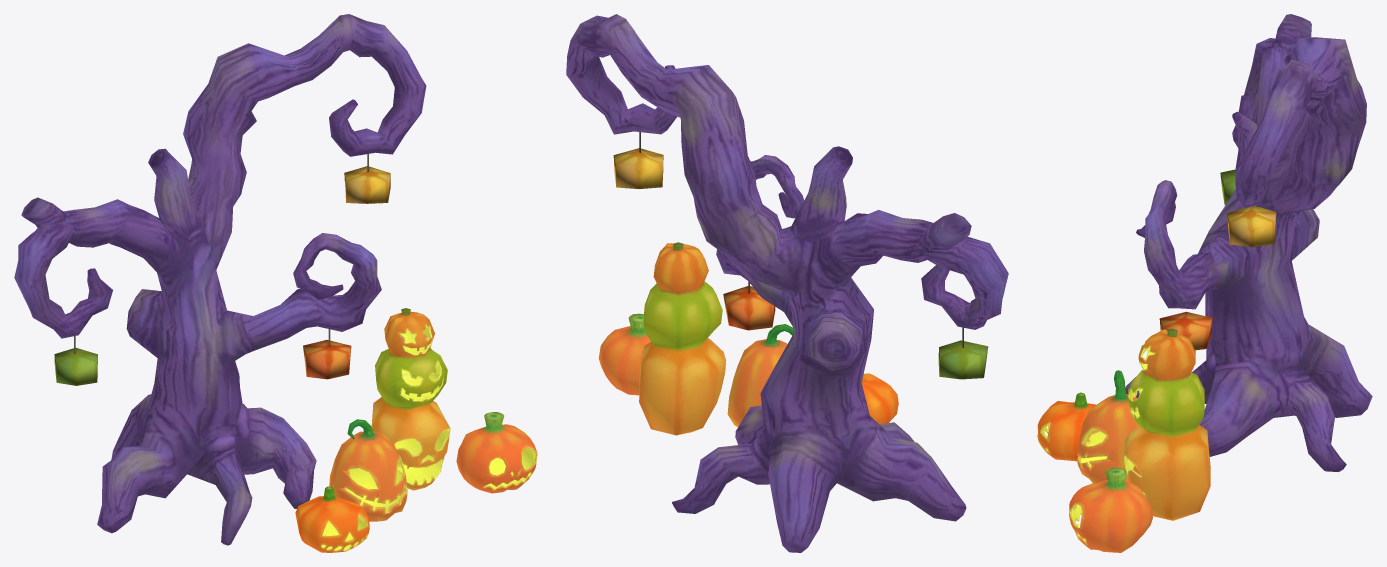
File: jack-o-lantern-tree.glb
3 renders of one model, left to right at view 1: azimuth 30°, elevation 25°; view 2: azimuth 150°, elevation 25°; view 3: azimuth 270°, elevation 25°, orthographic. The views are drawn at different scales.
Parts seen in each view (by area): view 1: Jack_tree_Jack_tree_0, jack_tower_jack_tower_0, Jack_o_lerntern_long_Jack_o_lerntern_long_0, Jack_tree_pumpkin_Jack_tree_pumpkin_0, Jack_o_lerntern_Jack_o_lerntern_0, Jack_o_lerntern_oblong_Jack_o_lerntern_oblong_0; view 2: Jack_tree_Jack_tree_0, jack_tower_jack_tower_0, Jack_tree_pumpkin_Jack_tree_pumpkin_0, Jack_o_lerntern_long_Jack_o_lerntern_long_0, Jack_o_lerntern_Jack_o_lerntern_0, Jack_o_lerntern_oblong_Jack_o_lerntern_oblong_0; view 3: Jack_tree_Jack_tree_0, jack_tower_jack_tower_0, Jack_o_lerntern_Jack_o_lerntern_0, Jack_o_lerntern_long_Jack_o_lerntern_long_0, Jack_tree_pumpkin_Jack_tree_pumpkin_0, Jack_o_lerntern_oblong_Jack_o_lerntern_oblong_0.
Boxes of the visible parts, left/top/right/bottom form: Jack_tree_Jack_tree_0: left=14, top=14, right=426, bottom=545; jack_tower_jack_tower_0: left=371, top=308, right=450, bottom=490; Jack_o_lerntern_long_Jack_o_lerntern_long_0: left=329, top=419, right=407, bottom=521; Jack_tree_pumpkin_Jack_tree_pumpkin_0: left=54, top=154, right=390, bottom=385; Jack_o_lerntern_Jack_o_lerntern_0: left=456, top=412, right=537, bottom=493; Jack_o_lerntern_oblong_Jack_o_lerntern_oblong_0: left=295, top=486, right=369, bottom=552; Jack_tree_Jack_tree_0: left=566, top=14, right=1008, bottom=552; jack_tower_jack_tower_0: left=639, top=242, right=726, bottom=435; Jack_tree_pumpkin_Jack_tree_pumpkin_0: left=613, top=132, right=988, bottom=379; Jack_o_lerntern_long_Jack_o_lerntern_long_0: left=727, top=324, right=793, bottom=426; Jack_o_lerntern_Jack_o_lerntern_0: left=598, top=313, right=650, bottom=395; Jack_o_lerntern_oblong_Jack_o_lerntern_oblong_0: left=861, top=373, right=898, bottom=424; Jack_tree_Jack_tree_0: left=1125, top=14, right=1372, bottom=471; jack_tower_jack_tower_0: left=1124, top=328, right=1210, bottom=520; Jack_o_lerntern_Jack_o_lerntern_0: left=1069, top=467, right=1152, bottom=552; Jack_o_lerntern_long_Jack_o_lerntern_long_0: left=1077, top=370, right=1140, bottom=483; Jack_tree_pumpkin_Jack_tree_pumpkin_0: left=1159, top=169, right=1276, bottom=350; Jack_o_lerntern_oblong_Jack_o_lerntern_oblong_0: left=1037, top=392, right=1099, bottom=461.
Bounding box in the file's own units: 5.27 × 4.87 × 3.25.
6 materials, 6 textured.
